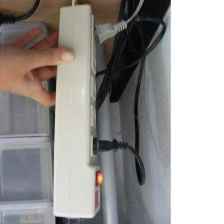three_eye_plug: (47, 0, 104, 221)
